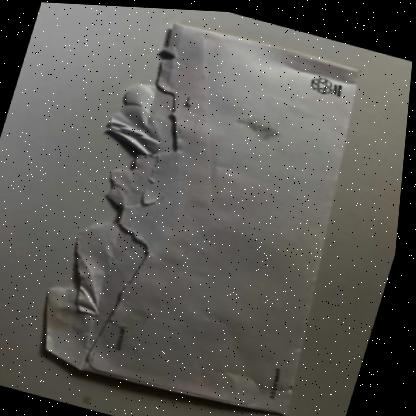Paper: (49, 21, 358, 411)
